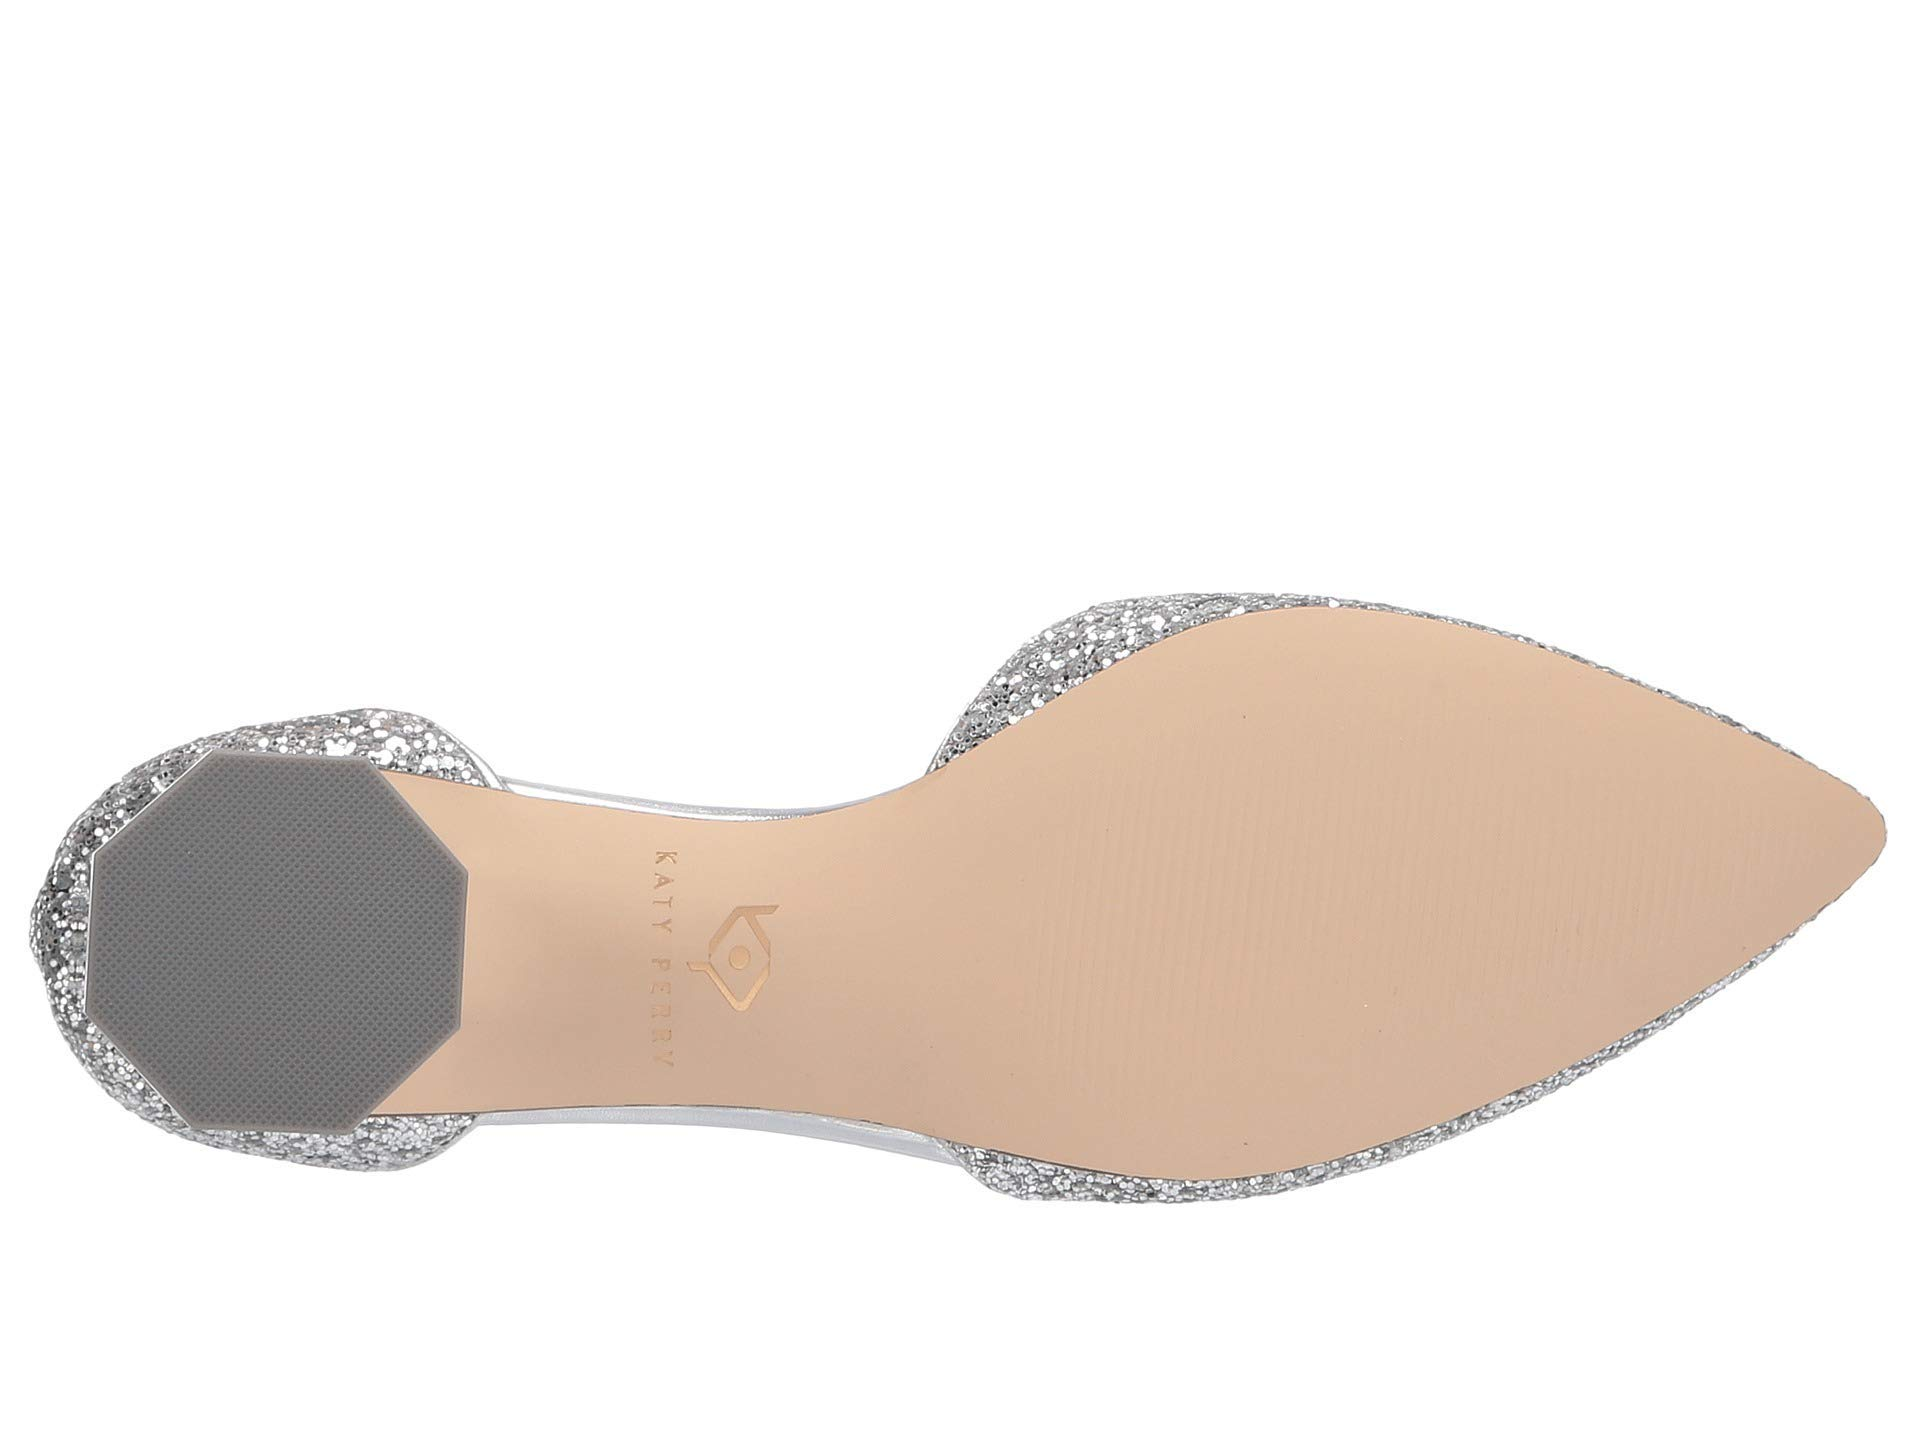quad: (144, 835, 352, 1063)
